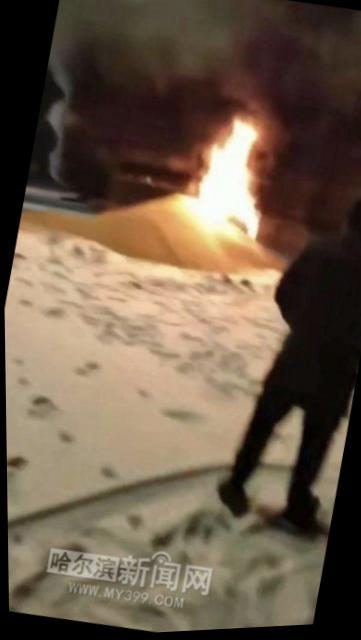fire: (175, 106, 288, 253)
